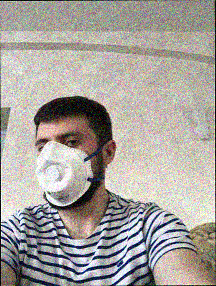with_mask: (35, 130, 100, 211)
